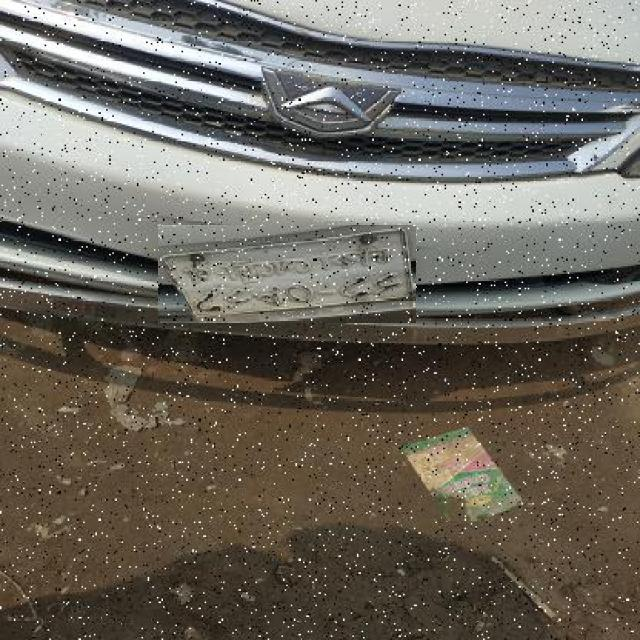numberplate: (158, 225, 416, 323)
